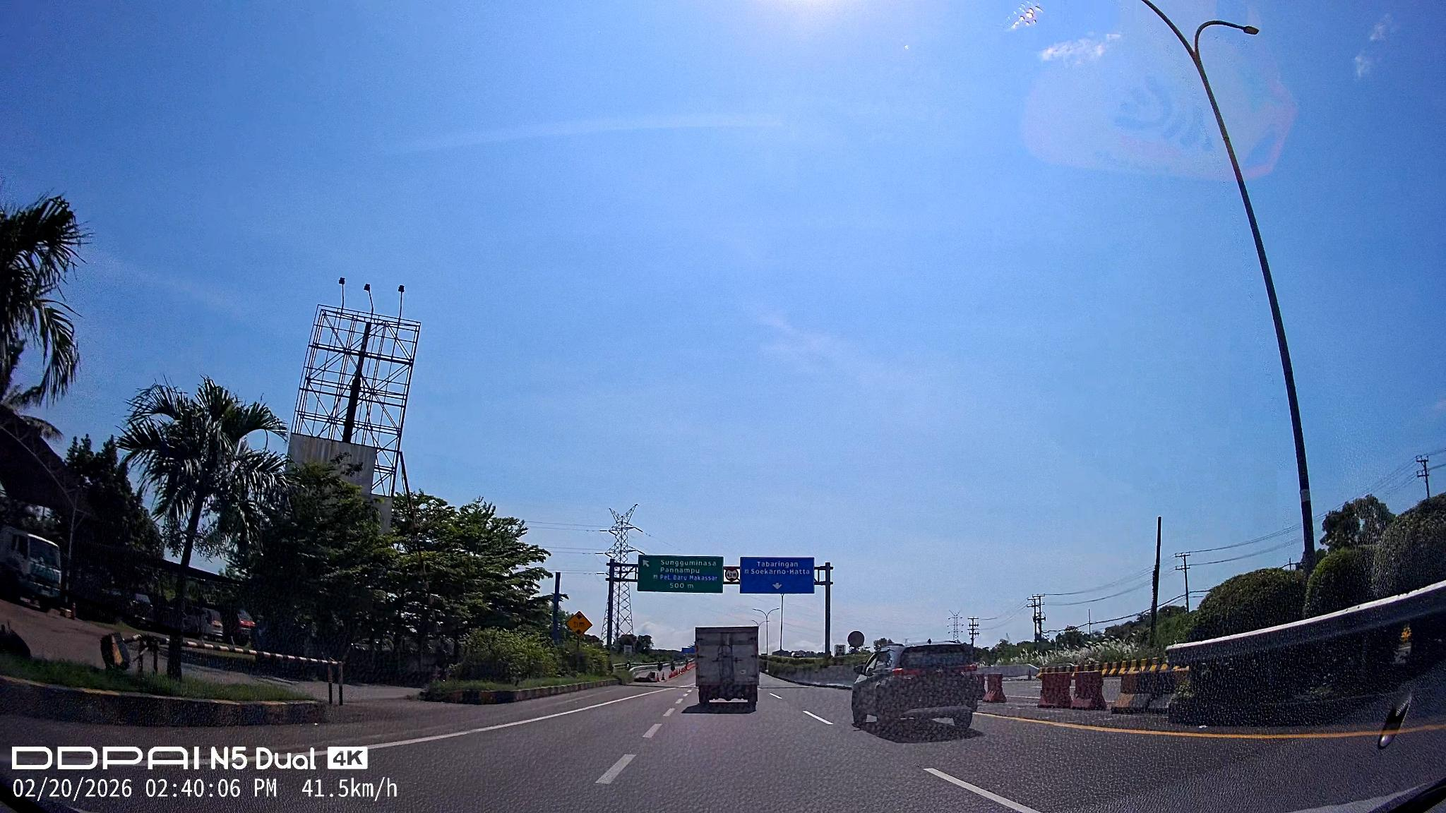rambu_teks: (638, 555, 724, 593), (740, 556, 815, 594)
